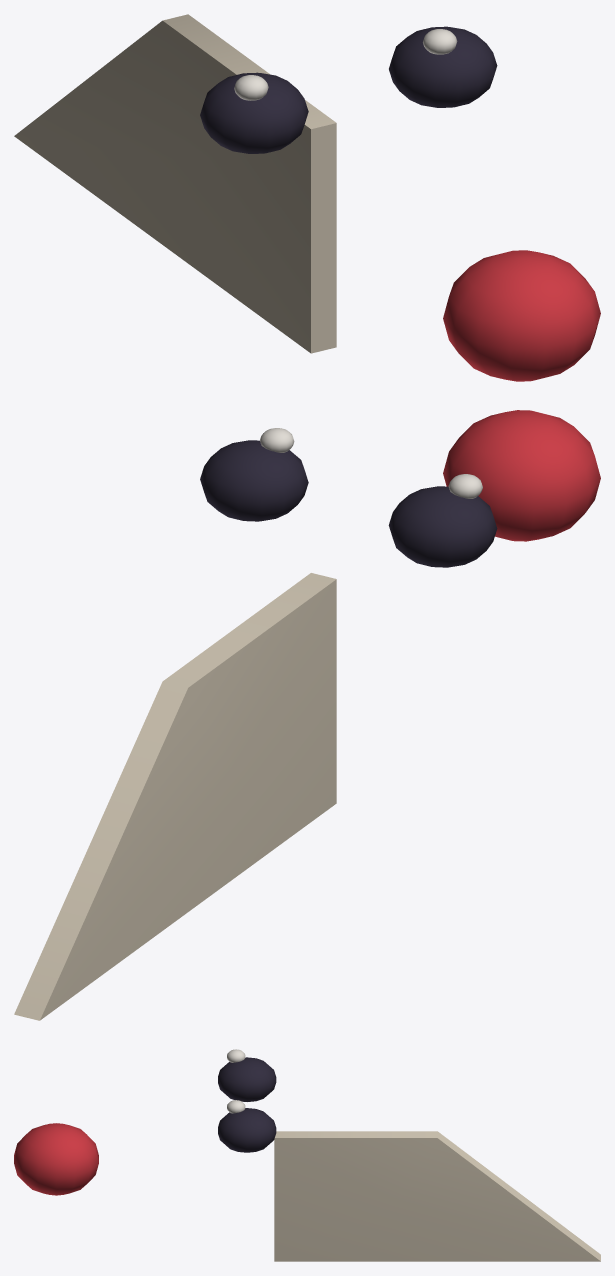
Rendered from Plane_Keel.fbx.
3 renders of one model, top to bottom at view 1: azimuth 30°, elevation 25°; view 2: azimuth 150°, elevation 25°; view 3: azimuth 270°, elevation 25°, orthographic. The views are drawn at different scales.
Parts seen in each view (by area): view 1: Plane_Keel; view 2: Plane_Keel; view 3: Plane_Keel.
Part boxes in pixels (<box>): Plane_Keel: <box>14,14,600,381</box>; Plane_Keel: <box>14,410,600,1020</box>; Plane_Keel: <box>14,1049,600,1261</box>.
Bounding box in the file's own units: 0.066 × 0.0725 × 0.2156.
